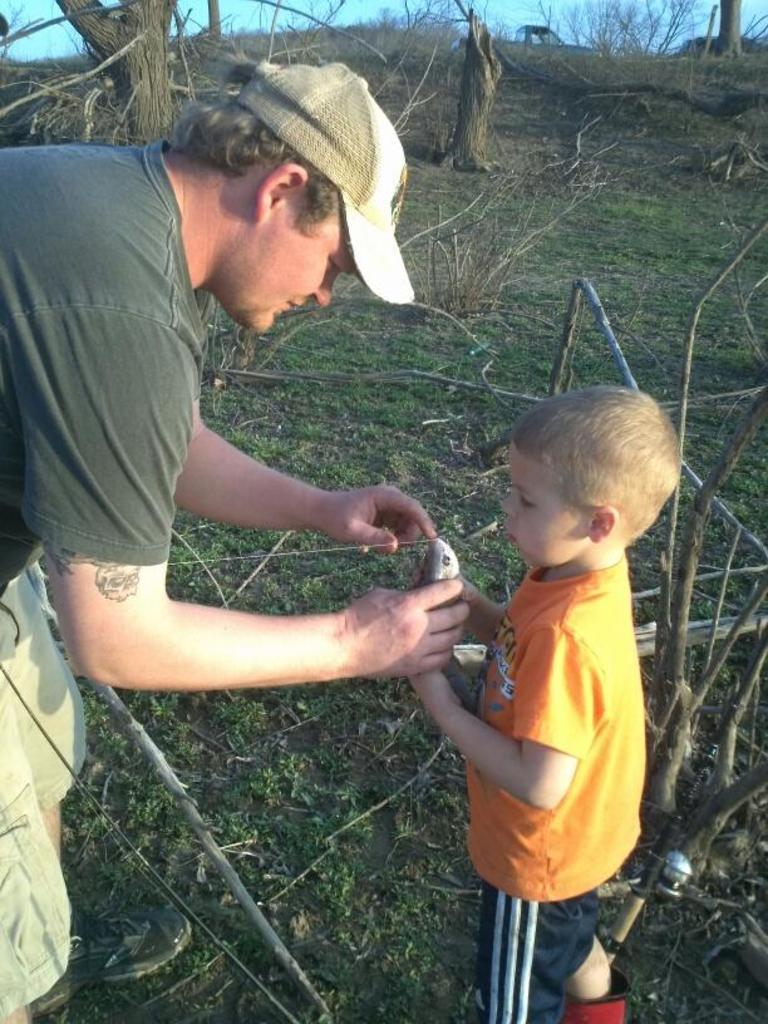Hat: (230, 60, 419, 302)
